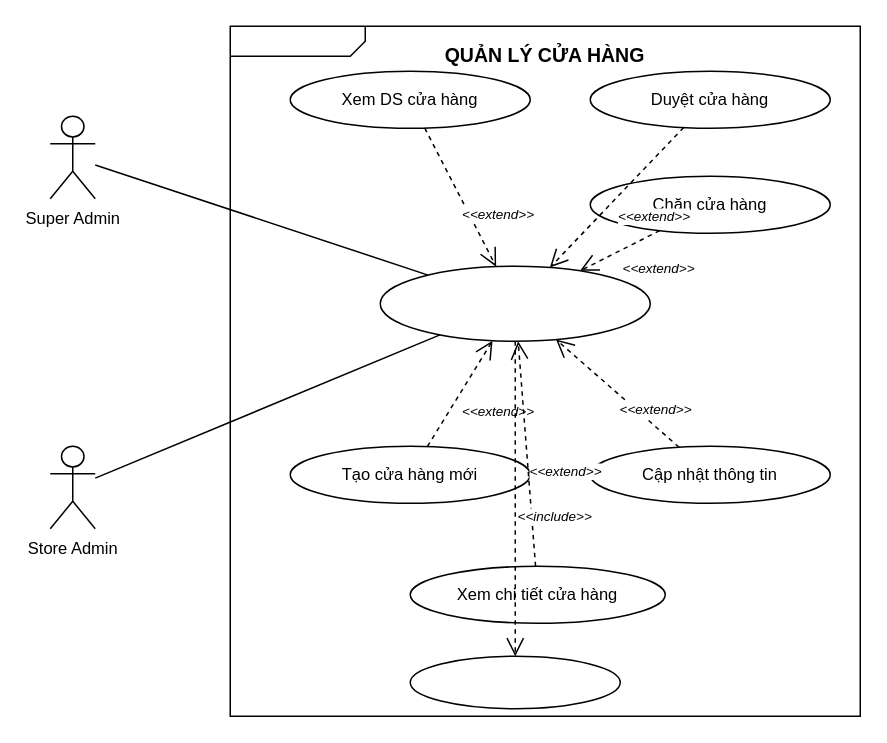
Some shapes in this 887 by 743 pixel diagram are drawn without their labels. Here are the shapes that lost their labels. From the top down, the box of each, then its label:
(379, 265, 650, 341): Quản lý cửa hàng (from Model)
(409, 655, 620, 709): Đăng nhập
